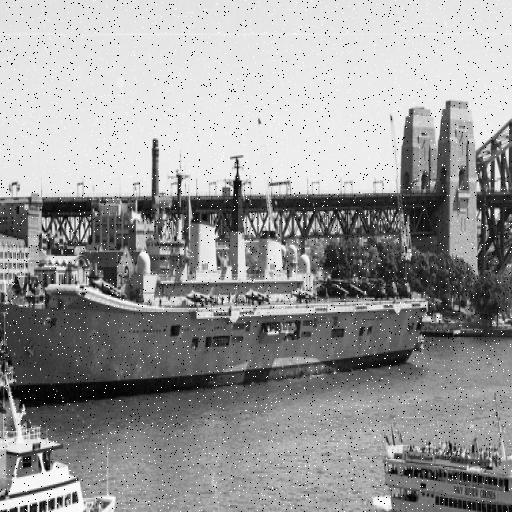Portanaves: (1, 144, 435, 414)
